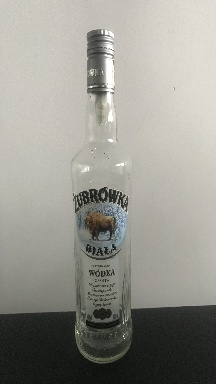butelka: (69, 26, 133, 366)
